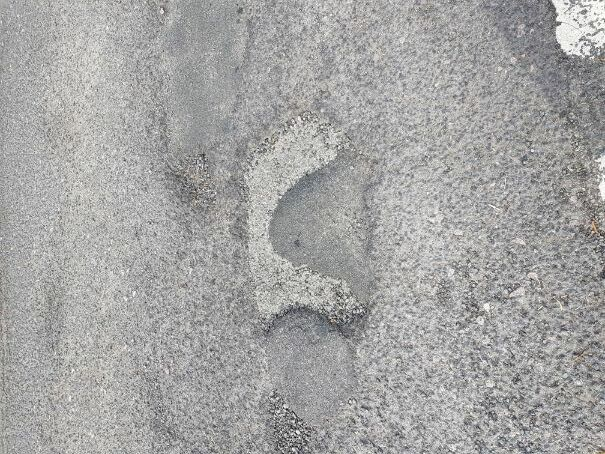pothole: (229, 102, 375, 342)
